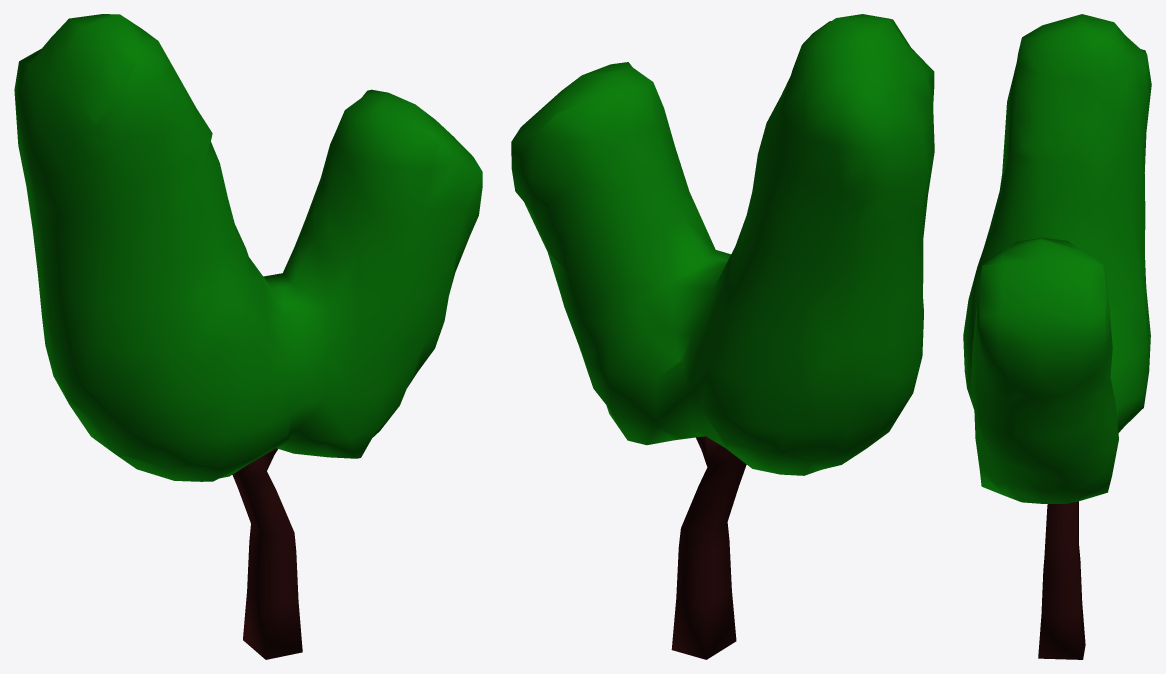
The model's file is TreeHighModel.fbx.
3 views of the same model, side by side, from view 1: azimuth 30°, elevation 25°; view 2: azimuth 150°, elevation 25°; view 3: azimuth 270°, elevation 25° (orthographic). The views are drawn at different scales.
Parts seen in each view (by area): view 1: TreeHigh; view 2: TreeHigh; view 3: TreeHigh.
Boxes of the visible parts, x1,y1,x2,y2 form: TreeHigh: (14, 14, 482, 659); TreeHigh: (511, 14, 934, 659); TreeHigh: (963, 14, 1151, 659).
Bounding box in the file's own units: 971 × 1468 × 444.
